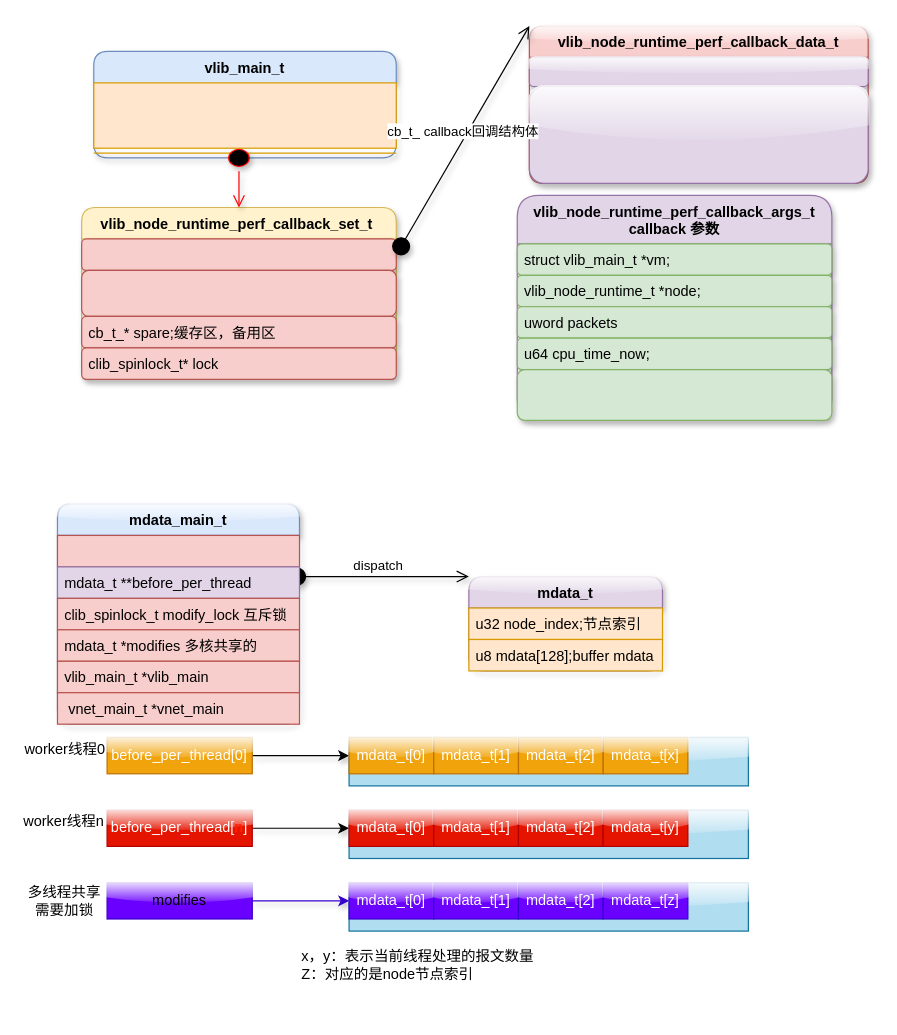
Some shapes in this 897 by 1035 pixel diagram are drawn without their labels. Each missing label, with the centre of its shape:
cb_t_* curr；vector结构: point 240,256
cb_t_* volatile next; vector结构，存储 perf callback data: point 240,294
u16 msg_id_base api消息基址: point 177,550
union { void *v; u64 u; } u[3];: point 699,136
vlib_node_runtime_perf_call_type_t call_type; call类型：after、before、reset: point 675,396
vlib_node_runtime_perf_callback_fp_t fp;回调函数: point 699,73
vlib_node_runtime_perf_callback_set_t vlib_node_runtime_perf_callbacks;: point 244,115
